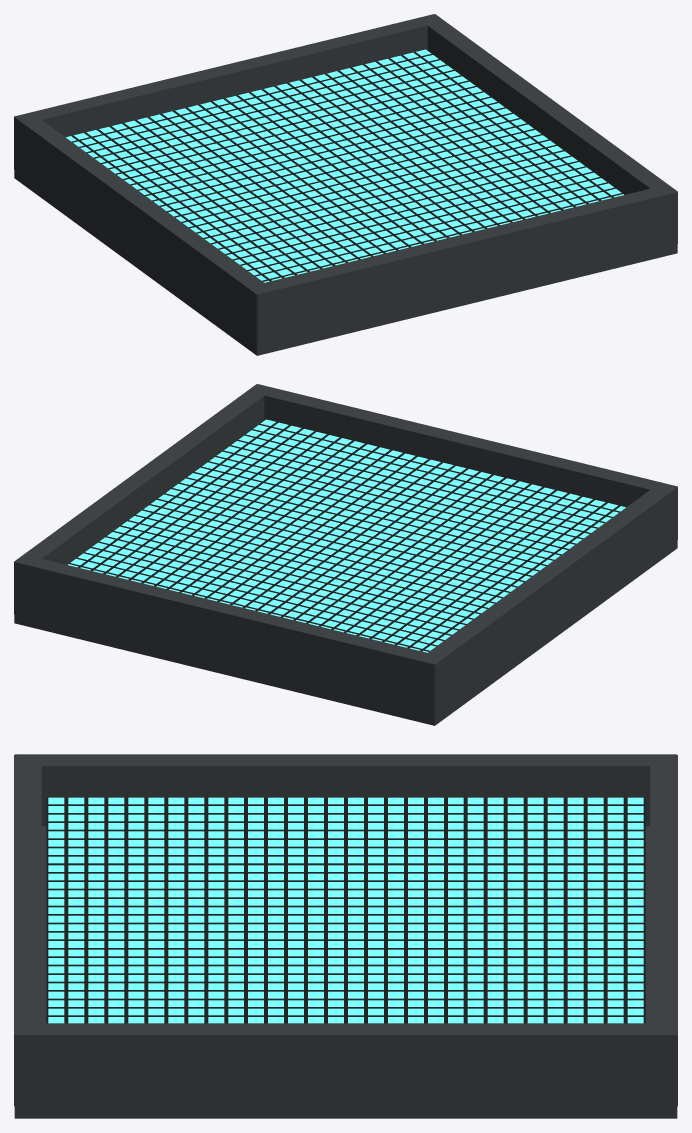
The model's file is led-panel.glb.
The picture shows the model from 3 angles, top to bottom: view 1: azimuth 30°, elevation 25°; view 2: azimuth 150°, elevation 25°; view 3: azimuth 270°, elevation 25°; orthographic projection. The views are drawn at different scales.
Parts seen in each view (by area): view 1: LED_Face, LED_facebacking, LED_bar_b, LED_bar_l, LED_bar_t, LED_bar_r, LED_back; view 2: LED_Face, LED_facebacking, LED_bar_t, LED_bar_l, LED_bar_b, LED_bar_r, LED_back; view 3: LED_Face, LED_facebacking, LED_bar_r, LED_bar_l, LED_back, LED_bar_b, LED_bar_t.
Part boxes in pixels (x1=…): LED_Face: x1=66, y1=49, x2=623, y2=282; LED_facebacking: x1=71, y1=50, x2=624, y2=281; LED_bar_b: x1=249, y1=188, x2=677, y2=346; LED_bar_l: x1=14, y1=113, x2=264, y2=346; LED_bar_t: x1=14, y1=14, x2=442, y2=137; LED_bar_r: x1=419, y1=14, x2=677, y2=194; LED_back: x1=14, y1=170, x2=677, y2=355; LED_Face: x1=68, y1=419, x2=625, y2=652; LED_facebacking: x1=67, y1=420, x2=620, y2=651; LED_bar_t: x1=14, y1=558, x2=441, y2=716; LED_bar_l: x1=420, y1=483, x2=677, y2=716; LED_bar_b: x1=249, y1=384, x2=677, y2=507; LED_bar_r: x1=14, y1=384, x2=272, y2=564; LED_back: x1=14, y1=540, x2=677, y2=725; LED_Face: x1=48, y1=797, x2=643, y2=1023; LED_facebacking: x1=46, y1=798, x2=645, y2=1023; LED_bar_r: x1=14, y1=1023, x2=677, y2=1106; LED_bar_l: x1=15, y1=754, x2=676, y2=825; LED_back: x1=14, y1=826, x2=677, y2=1118; LED_bar_b: x1=14, y1=755, x2=41, y2=1106; LED_bar_t: x1=650, y1=755, x2=677, y2=1106.
Size of the model in its own units: 0.501 by 0.07 by 0.501.
